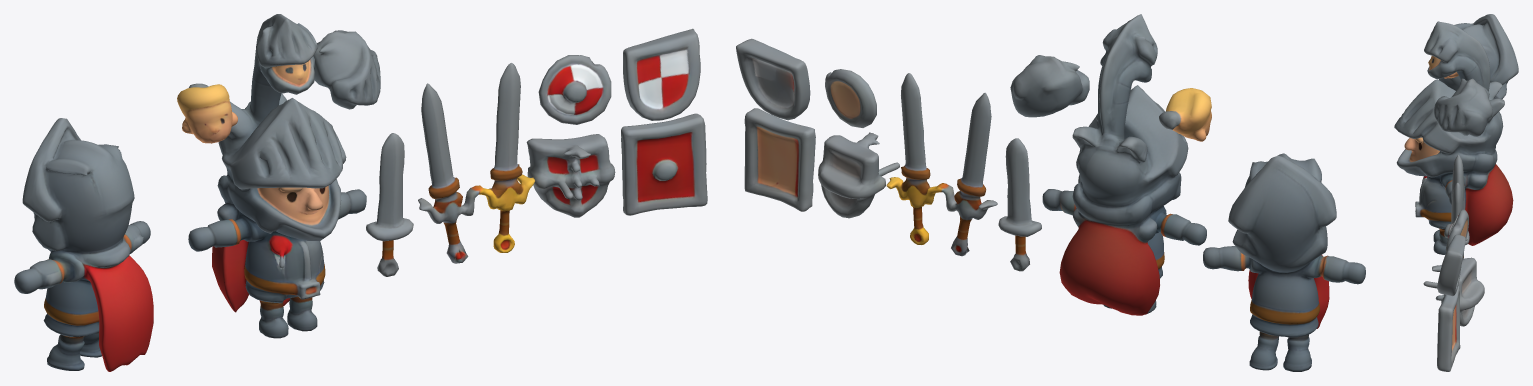
Rendered from ThanhGiong_Hero_base_basic_pbr.fbx.
The picture shows the model from 3 angles, left to right: view 1: azimuth 30°, elevation 25°; view 2: azimuth 150°, elevation 25°; view 3: azimuth 270°, elevation 25°; orthographic projection. The views are drawn at different scales.
Parts seen in each view (by area): view 1: model; view 2: model; view 3: model.
Part boxes in pixels (box(x1,y1,x2,y2)): model: box(14, 14, 707, 371); model: box(736, 14, 1365, 371); model: box(1394, 14, 1518, 371).
Bounding box in the file's own units: 190 × 83.94 × 42.52.
Materials: 1 (1 with a texture image).
